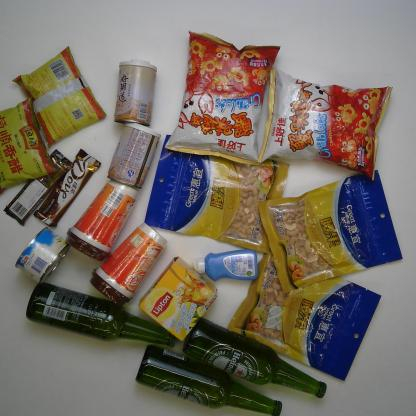Alcohol: (181, 316, 328, 398), (134, 343, 284, 415), (25, 282, 176, 349)
Canned Food: (107, 120, 162, 190), (13, 226, 72, 286), (112, 58, 158, 126)
Chocolate: (1, 148, 74, 229), (32, 146, 102, 230)
Dried Fruit: (226, 248, 383, 382), (258, 168, 404, 295), (142, 134, 290, 256)
Instant Drink: (138, 255, 218, 343), (88, 221, 169, 306), (63, 179, 141, 263)
Personal Hygiene: (191, 248, 259, 284)
Puffed Food: (164, 29, 282, 167), (256, 65, 394, 183)
Seasoner: (11, 45, 108, 150), (0, 95, 59, 196)
